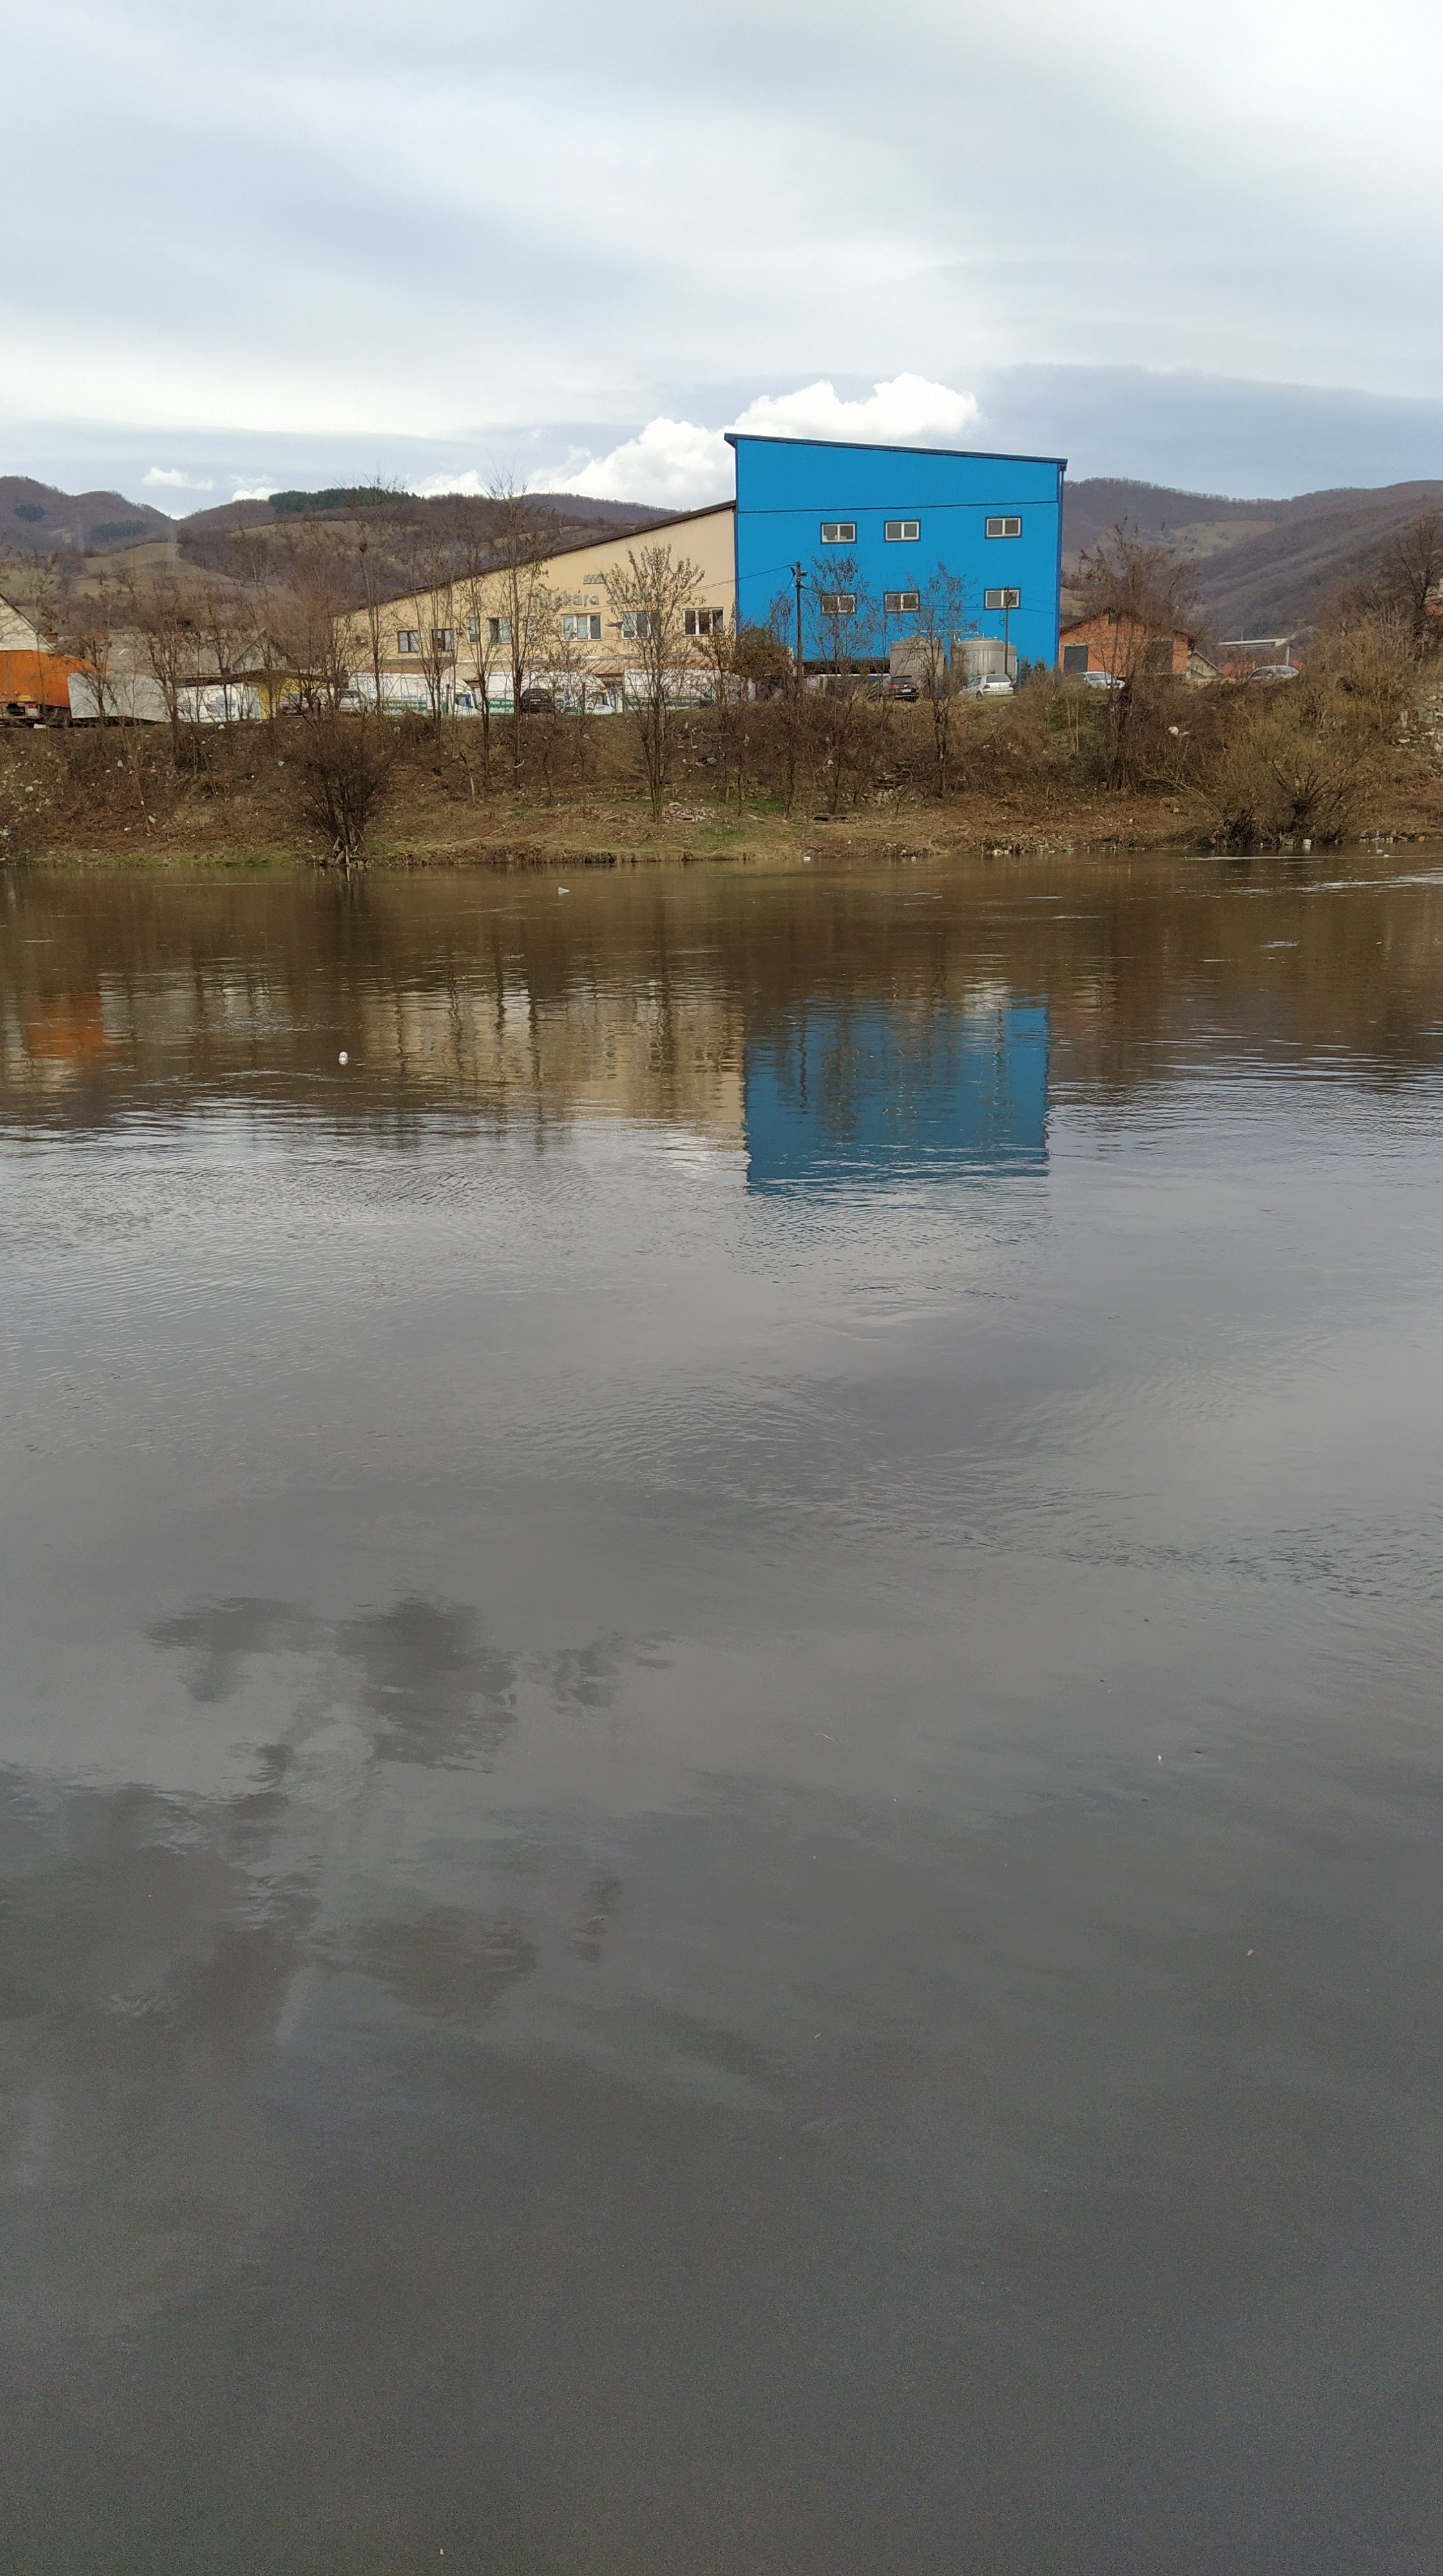Plastic Bottle: (338, 1051, 347, 1063), (558, 886, 568, 893), (804, 856, 811, 860)
